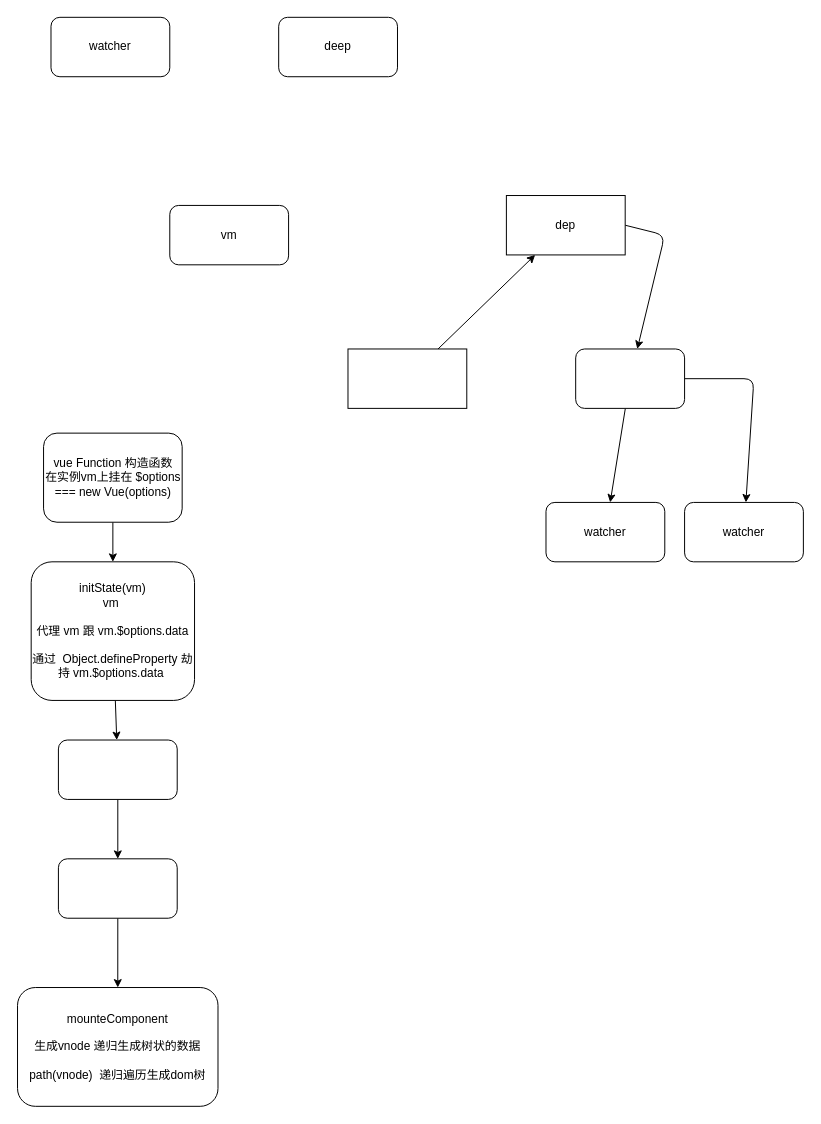
This 821x1124 diagram has some shape labels left out. The shapes that lost their labels are listed below. From the top down, each one's centre as x and y in pixels, then its label:
the point at 407,378: data{ name: 'aaa' }
the point at 630,378: {{name}}
the point at 117,769: 递归遍历 data，进行属性劫持
the point at 117,888: 编译模版；生成函数字符串
